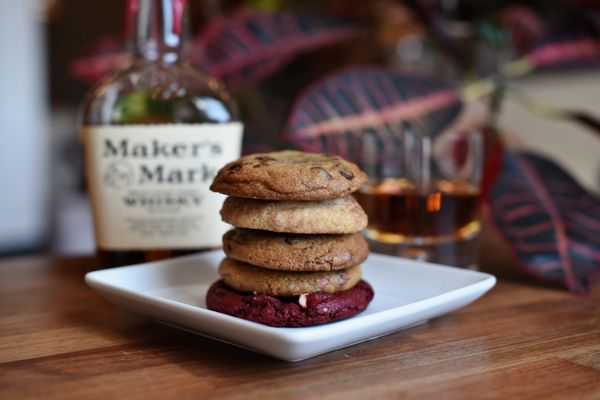pizza: (297, 100, 490, 270), (79, 60, 244, 254)
soup: (205, 148, 373, 326)
